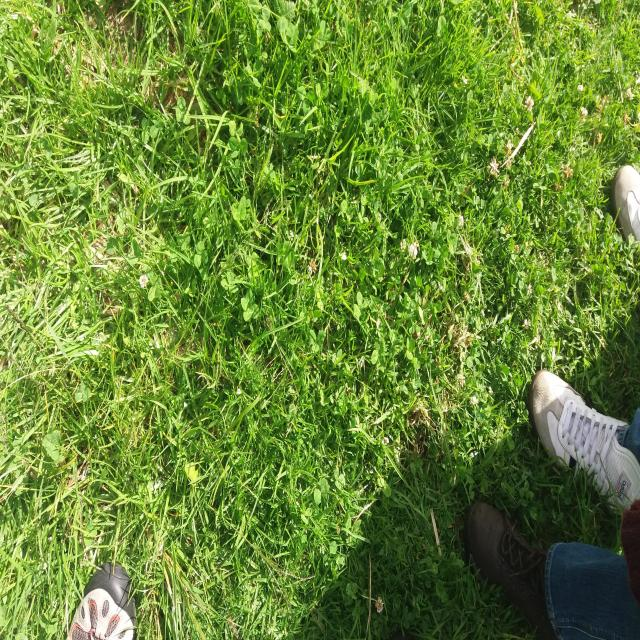Four Leaf Clover: (241, 288, 259, 322)
